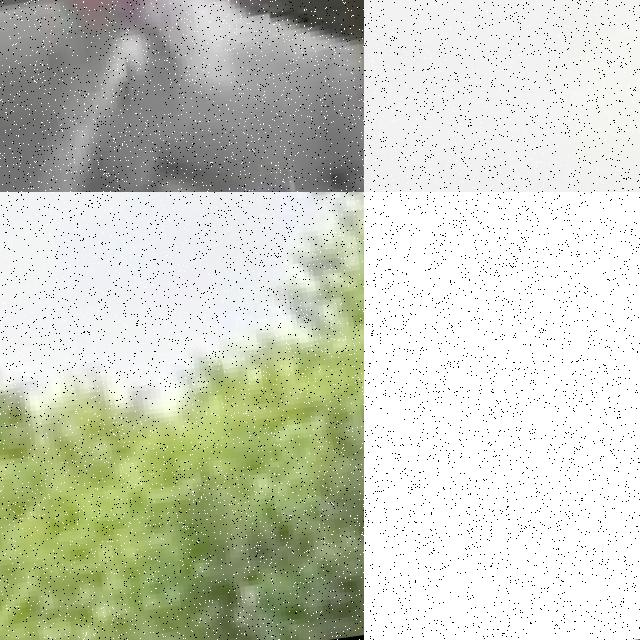drone: (0, 0, 364, 192)
